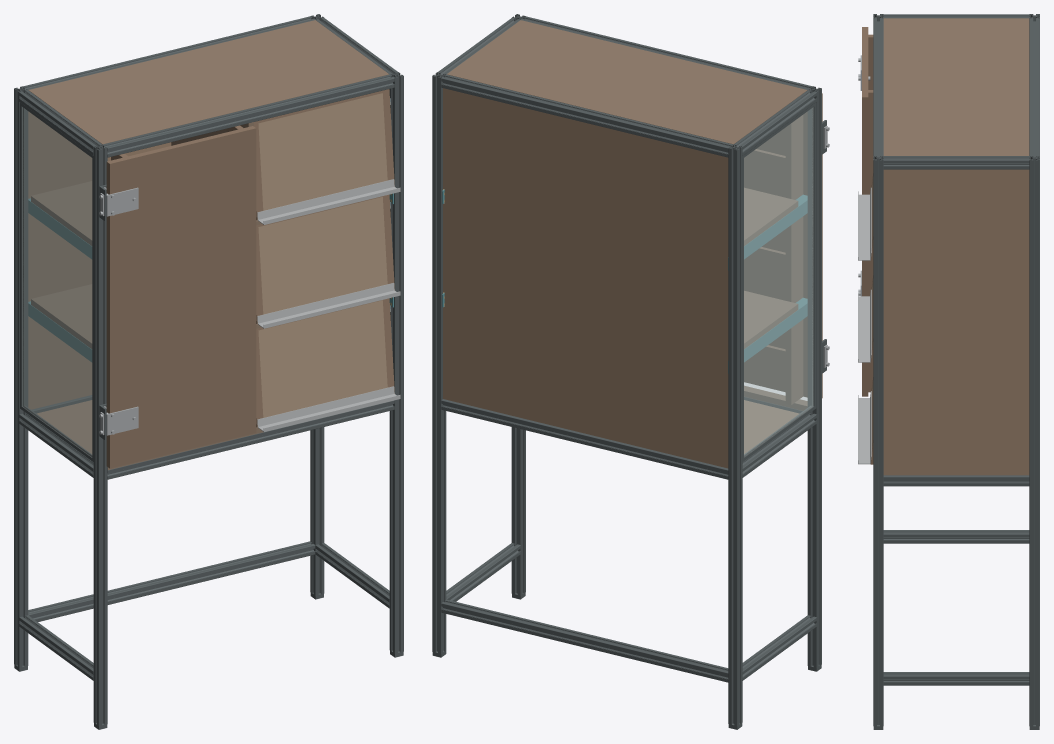
Rendered from cabinet-closed.glb.
The picture shows the model from 3 angles, left to right: view 1: azimuth 30°, elevation 25°; view 2: azimuth 150°, elevation 25°; view 3: azimuth 270°, elevation 25°; orthographic projection.
Parts seen in each view (by area): view 1: Door-face-18, Left-glass-6, Top-18, Back-infill-8, Plywood-infill-6-3, Plywood-infill-6-1, Plywood-infill-6-2, Post-4-23, Post-966-23, Post-4-470, Beam-top-front, Beam-lower-rear (+24 smaller); view 2: Back-infill-8, Top-18, Left-glass-6, Post-4-470, Post-966-470, Post-4-23, Door-face-18, Door-inner-hinge-18, Beam-top-rear, Beam-lower-rear, Beam-body-rear, Post-966-23 (+15 smaller); view 3: Right-infill-8, Top-18, Post-966-470, Post-966-23, Beam-lower-side-4, Beam-lower-side-966, Beam-top-side-966, Beam-body-side-966, Door-face-18, Beam-top-rear, Beam-top-front, Display-ledge-1 (+5 smaller).
Boxes of the visible parts, <box> form: Door-face-18: <box>106,126,256,468</box>; Left-glass-6: <box>22,107,92,456</box>; Top-18: <box>28,20,389,144</box>; Back-infill-8: <box>28,111,171,409</box>; Plywood-infill-6-3: <box>258,93,387,210</box>; Plywood-infill-6-1: <box>258,300,387,417</box>; Plywood-infill-6-2: <box>258,197,387,314</box>; Post-4-23: <box>93,144,107,726</box>; Post-966-23: <box>389,72,403,653</box>; Post-4-470: <box>14,86,28,667</box>; Beam-top-front: <box>103,74,394,157</box>; Beam-lower-rear: <box>28,541,315,621</box>; Back-infill-8: <box>443,88,728,468</box>; Top-18: <box>447,20,807,144</box>; Left-glass-6: <box>744,107,813,456</box>; Post-4-470: <box>728,144,742,726</box>; Post-966-470: <box>432,72,446,653</box>; Post-4-23: <box>807,86,821,667</box>; Door-face-18: <box>744,93,822,398</box>; Door-inner-hinge-18: <box>785,115,803,404</box>; Beam-top-rear: <box>441,74,732,157</box>; Beam-lower-rear: <box>441,599,728,682</box>; Beam-body-rear: <box>441,399,728,479</box>; Post-966-23: <box>511,14,525,595</box>; Right-infill-8: <box>883,169,1029,475</box>; Top-18: <box>883,18,1029,155</box>; Post-966-470: <box>1029,156,1039,726</box>; Post-966-23: <box>873,156,883,726</box>; Beam-lower-side-4: <box>883,530,1029,543</box>; Beam-lower-side-966: <box>883,672,1029,685</box>; Beam-top-side-966: <box>883,156,1029,169</box>; Beam-body-side-966: <box>883,475,1029,486</box>; Door-face-18: <box>862,27,868,396</box>; Beam-top-rear: <box>1029,18,1039,157</box>; Beam-top-front: <box>873,18,883,157</box>; Display-ledge-1: <box>858,391,871,464</box>.
Size of the model in its own units: 1 by 1.8 by 0.5205.
